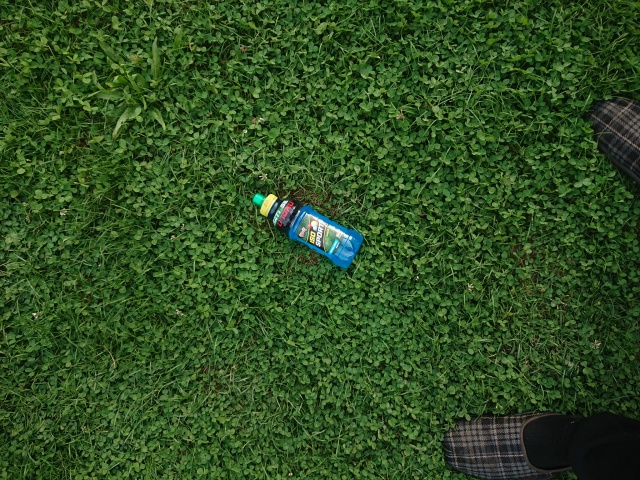Vindi Iso Sport Forest Strawberries 500mL: (251, 190, 365, 270)
